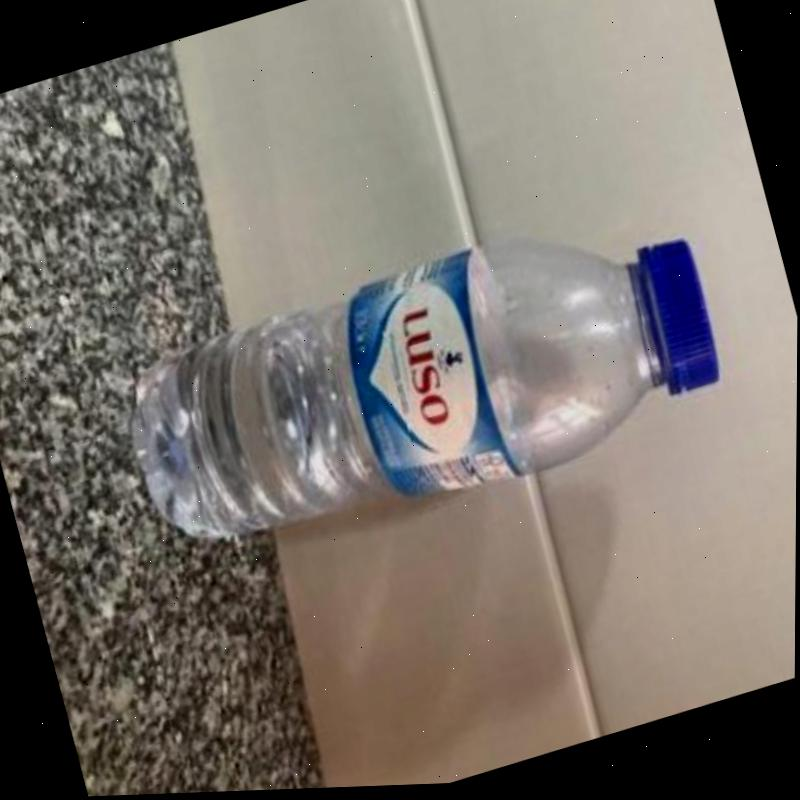botella: (105, 187, 738, 590)
